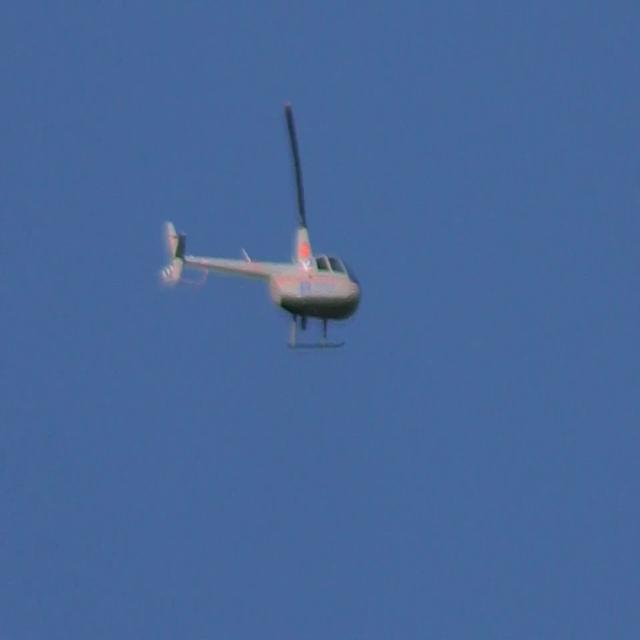CIV_HELO: (161, 216, 362, 354)
